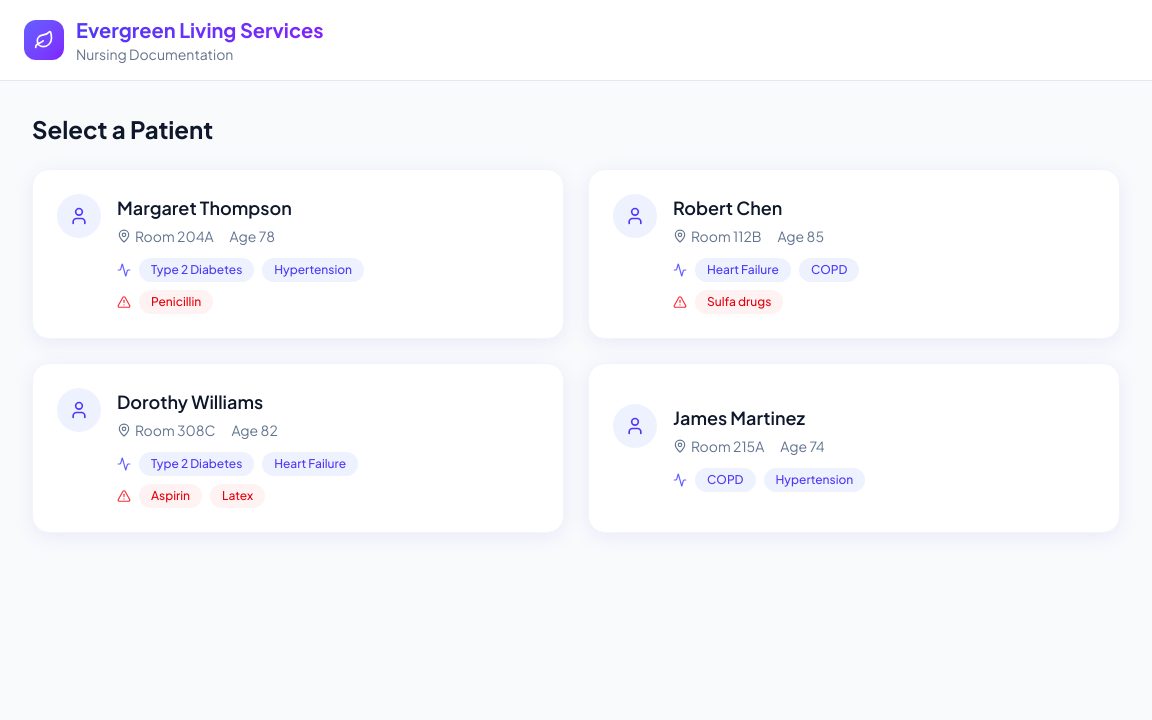
Scenario: Integration: Patient Info Display › displays correct patient information for Margaret Thompson
Click the button with aria-label "Select patient Margaret Thompson" at (79, 216), box [32, 169, 564, 339]
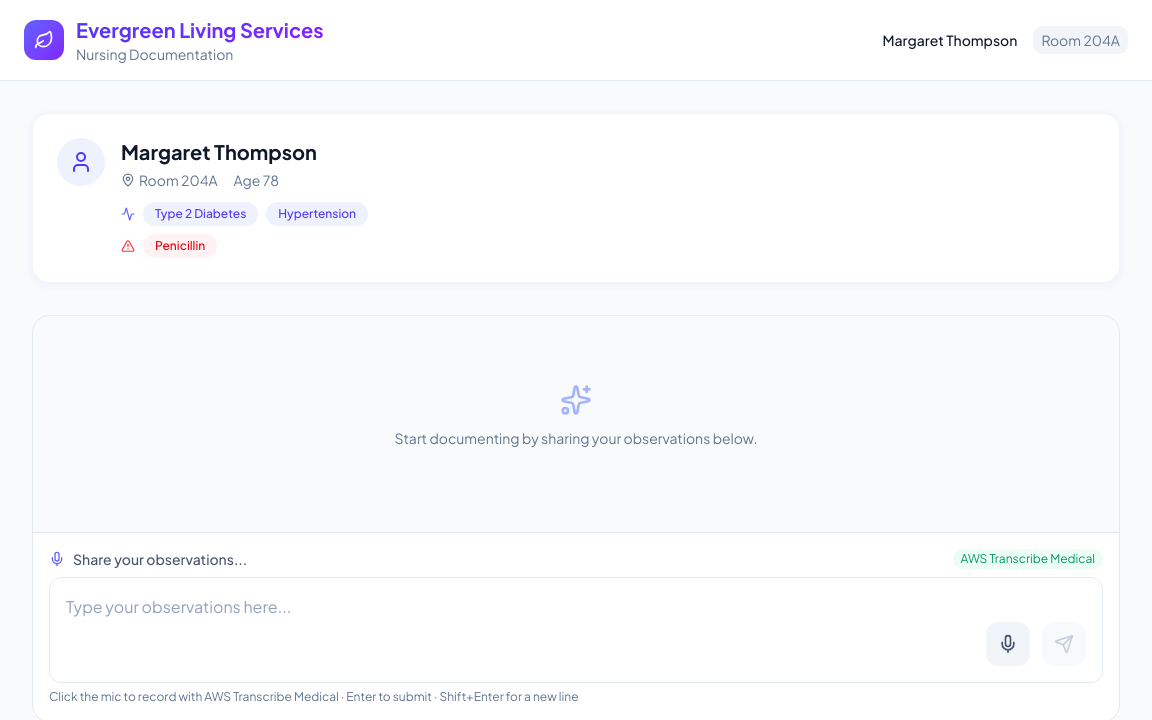
Expected: the text "Room 204A" is shown, [121, 170, 218, 190]
Now the heading "Margaret Thompson" is shown, box [121, 139, 317, 164]
